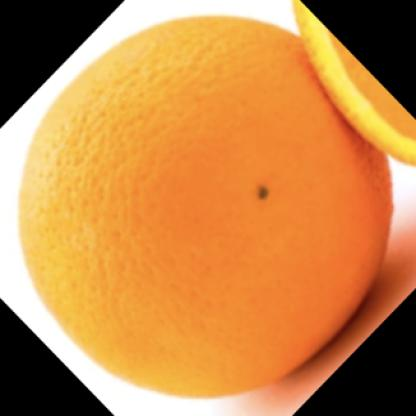fresh: (20, 13, 386, 395)
